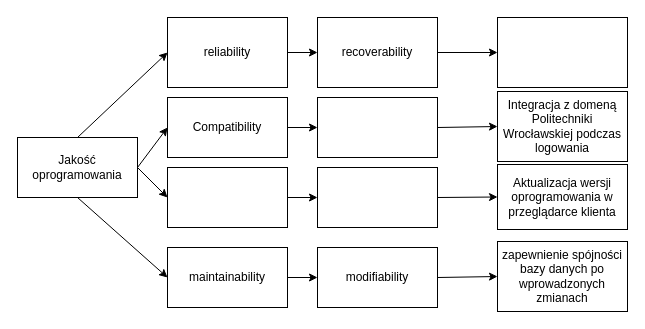
Image size: 645x329. Some labels were removed from this diagram. Here are the shapes that lost their labels. From the top down, the box of each, then its label:
(496, 16, 628, 88): W przypadku uszkodzenia lub utraty bazy danych baza musi zostać odtworzona
(316, 96, 438, 158): co-existence
(166, 166, 288, 228): portability
(316, 166, 438, 228): replaceability
